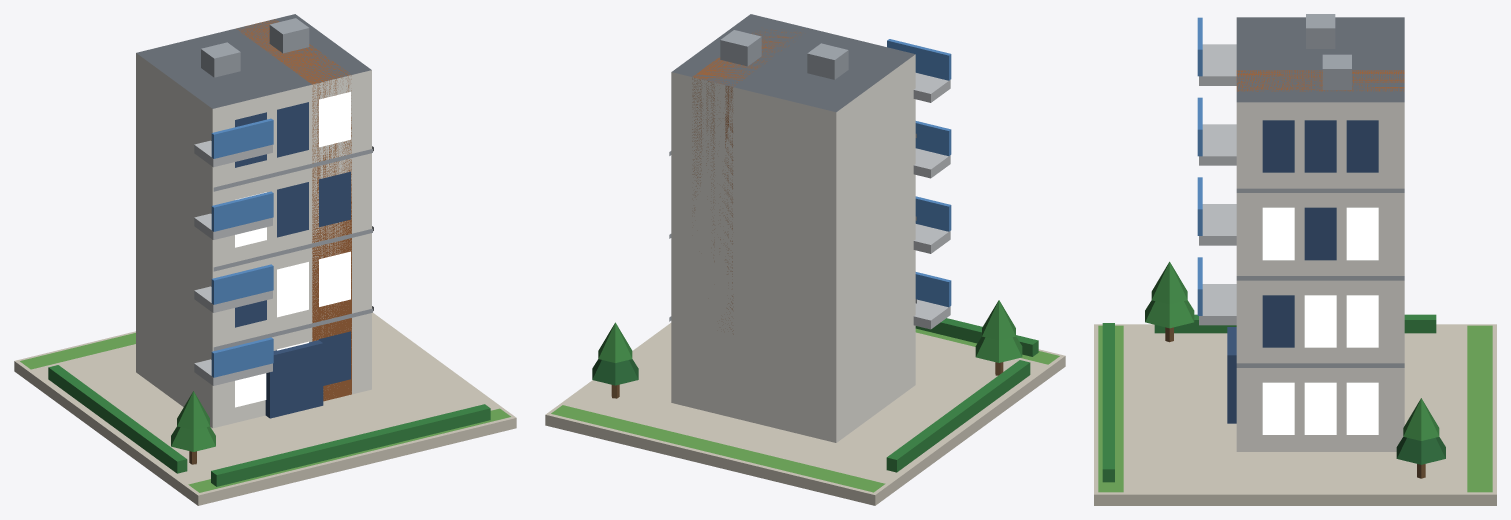
3 renders of one model, left to right at view 1: azimuth 30°, elevation 25°; view 2: azimuth 150°, elevation 25°; view 3: azimuth 270°, elevation 25°, orthographic. The views are drawn at different scales.
Visible parts, largest first — view 1: b05; view 2: b05; view 3: b05.
Boxes of the visible parts, left/top/right/bottom form: b05: left=14, top=14, right=516, bottom=505; b05: left=545, top=14, right=1065, bottom=505; b05: left=1094, top=14, right=1496, bottom=505.
Bounding box in the file's own units: 0.96 × 1 × 0.96.
